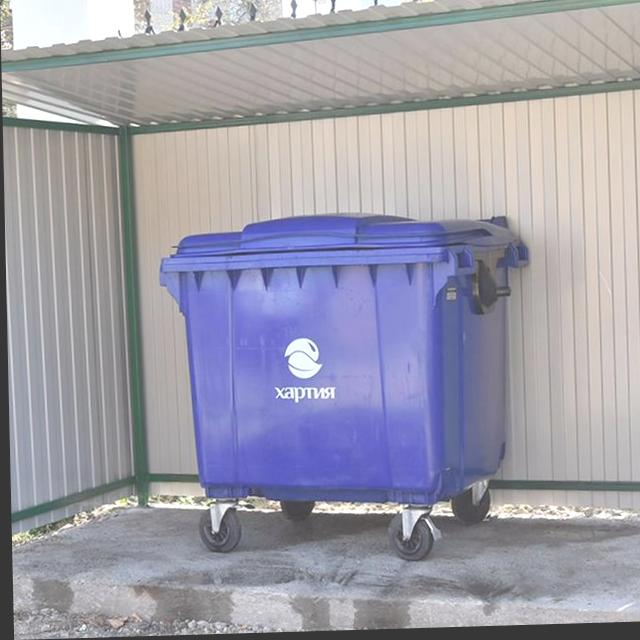Trash_Can_Closed: (157, 208, 536, 513)
